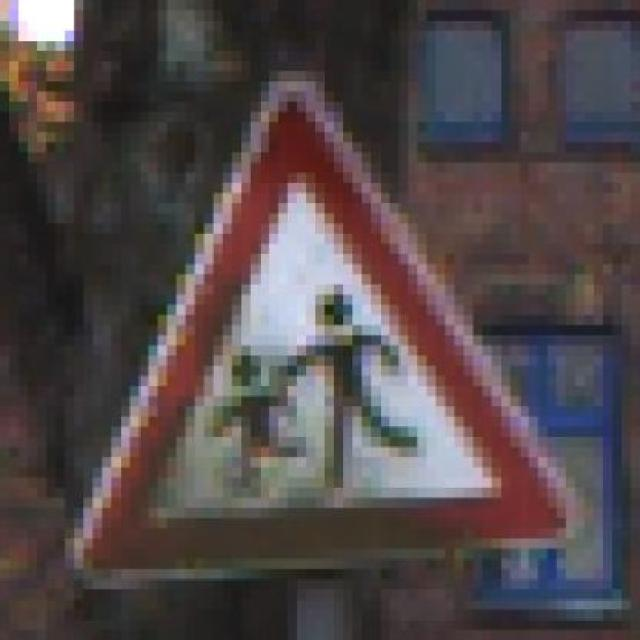Beware of children: (46, 50, 585, 579)
